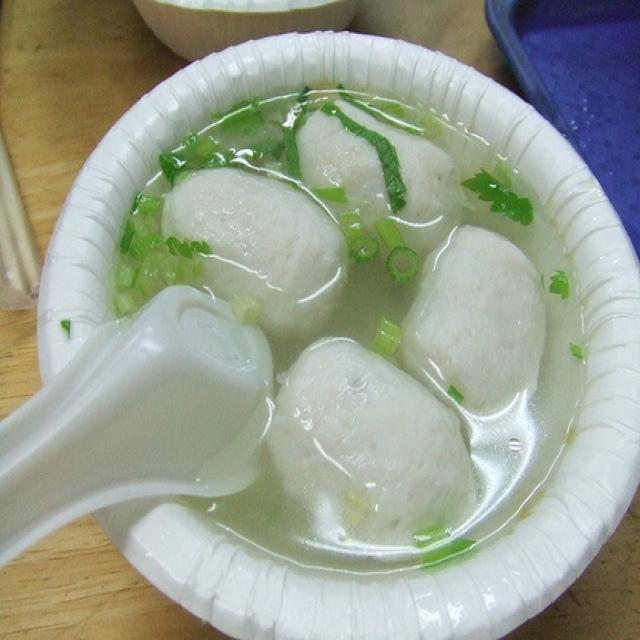熟制海鲜: (45, 34, 626, 624)
